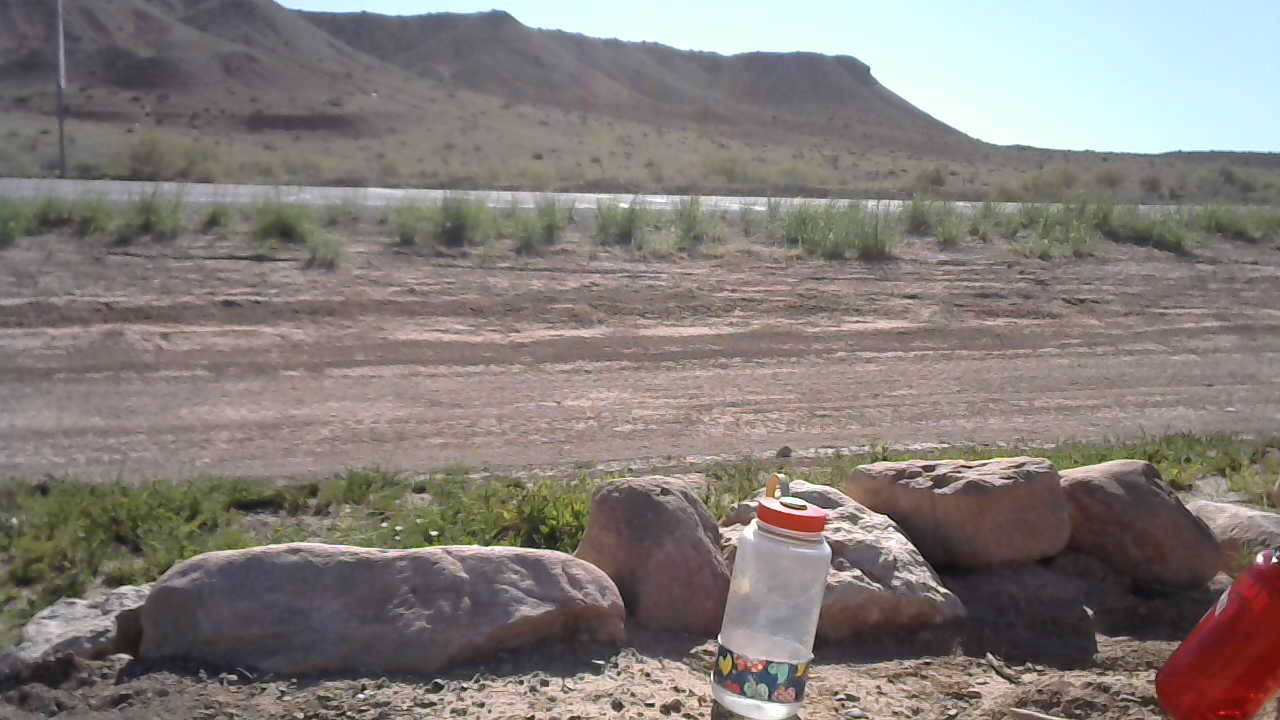bottle: (710, 471, 832, 720), (1151, 545, 1280, 720)
